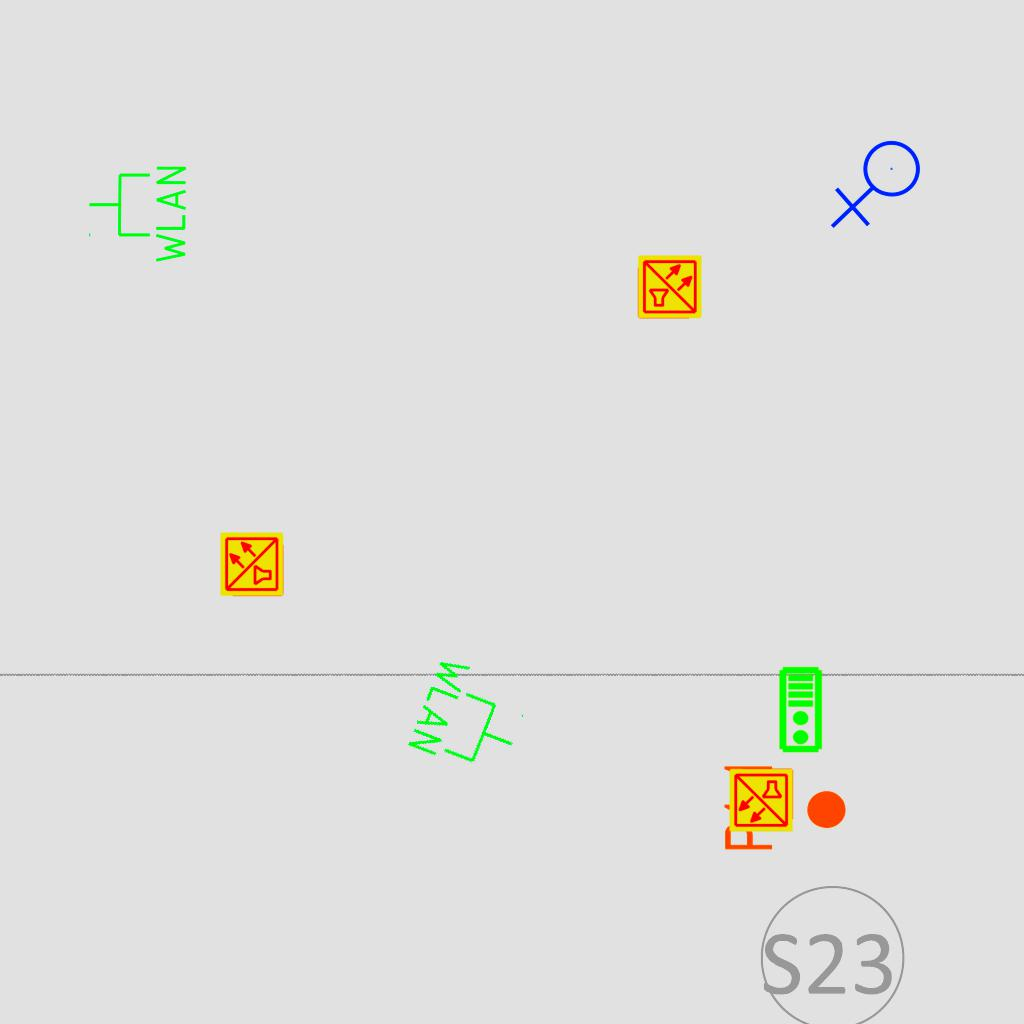Downlight_LED_Einbauleuchten_Flur: (721, 760, 849, 853)
Elektroanschluss_allgemein_230V_Geraeteanschlussdose_230V: (830, 139, 929, 233)
Gegensprechanlage_mit_Video: (778, 666, 825, 754)
OKW_Multisensormelder_(Kombination_optischer_Rauch-Kahlenmonoxid_Waerme-Melder): (219, 531, 285, 597), (637, 254, 703, 320), (728, 767, 794, 833)
WLAN: (402, 649, 538, 786), (86, 162, 190, 267)
